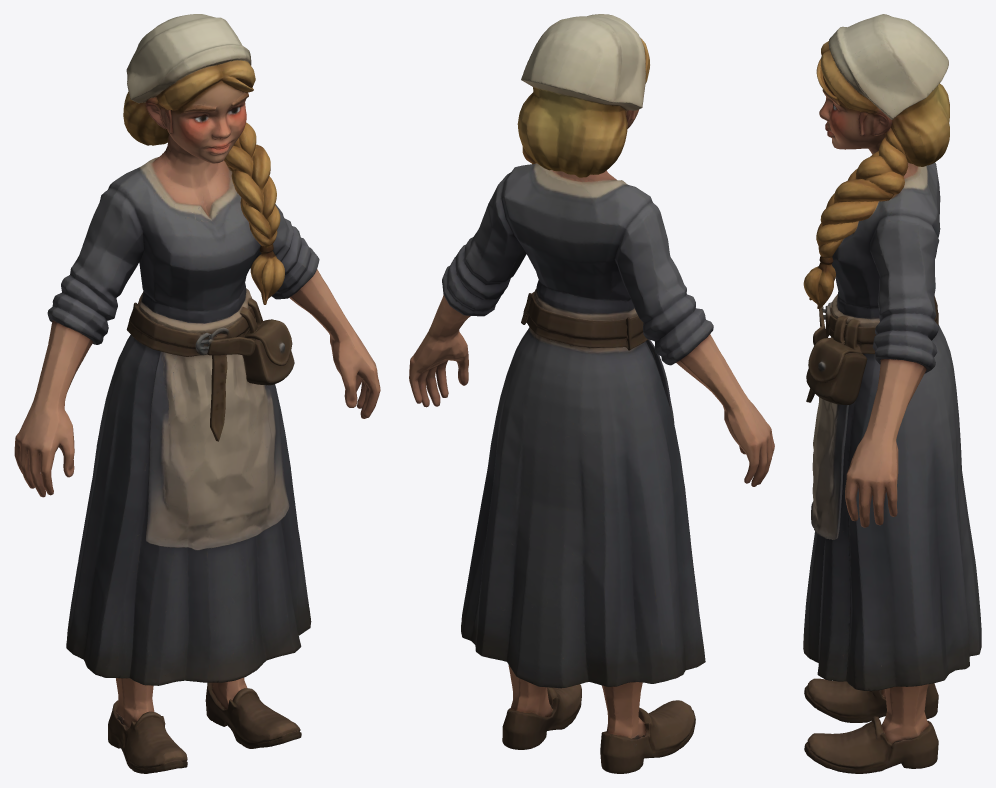
File: maid.glb
3 renders of one model, left to right at view 1: azimuth 30°, elevation 25°; view 2: azimuth 150°, elevation 25°; view 3: azimuth 270°, elevation 25°, orthographic.
Parts seen in each view (by area): view 1: world; view 2: world; view 3: world.
Part boxes in pixels (x1,y1,x2,y2): world: (14,14,380,773); world: (409,14,774,773); world: (803,14,981,773).
Size of the model in its own units: 0.5087 by 1 by 0.2257.
1 material, 1 textured.
